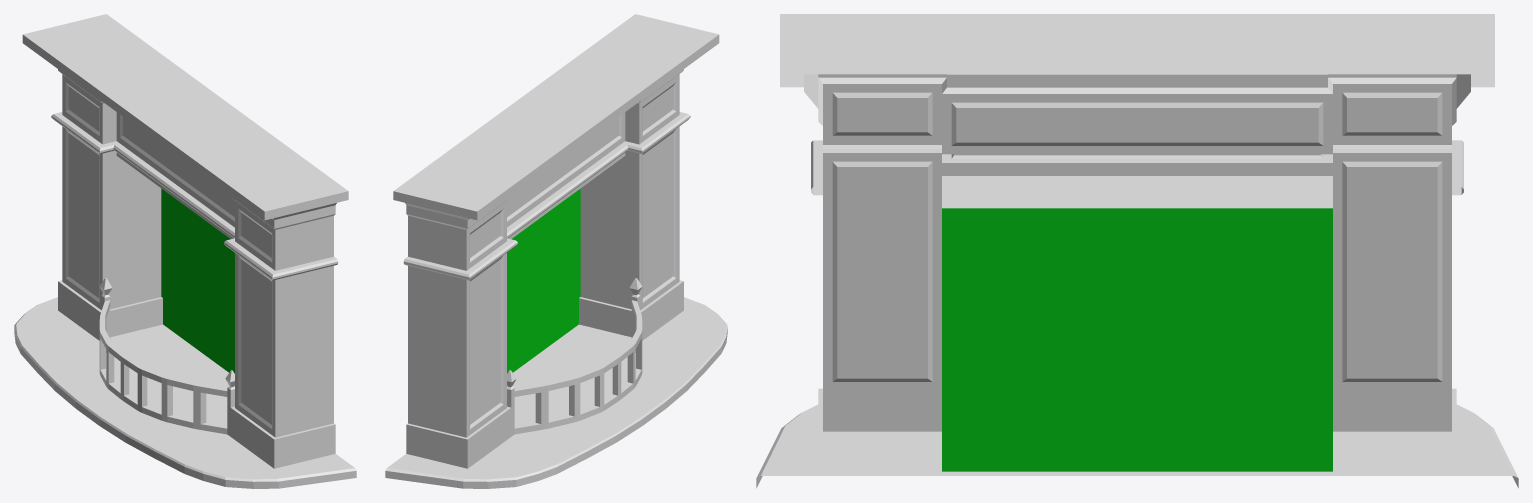
The model's file is fireplace.fbx.
3 views of the same model, side by side, from view 1: azimuth 30°, elevation 25°; view 2: azimuth 150°, elevation 25°; view 3: azimuth 270°, elevation 25° (orthographic). The views are drawn at different scales.
Parts seen in each view (by area): view 1: fireplace, base, back, base_small, fence; view 2: fireplace, base, back, base_small, fence; view 3: fireplace, back, base.
Boxes of the visible parts, box(x1,y1,x2,y2) form: fireplace: box(22, 14, 348, 468); base: box(14, 297, 356, 488); back: box(161, 188, 234, 373); base_small: box(106, 324, 234, 426); fence: box(99, 278, 234, 436); fireplace: box(393, 14, 719, 468); base: box(385, 297, 727, 488); back: box(507, 188, 580, 373); base_small: box(507, 324, 635, 426); fence: box(507, 278, 642, 436); fireplace: box(780, 14, 1494, 432); back: box(942, 208, 1332, 471); base: box(756, 404, 1518, 488).
Size of the model in its own units: 50 by 96 by 160.
